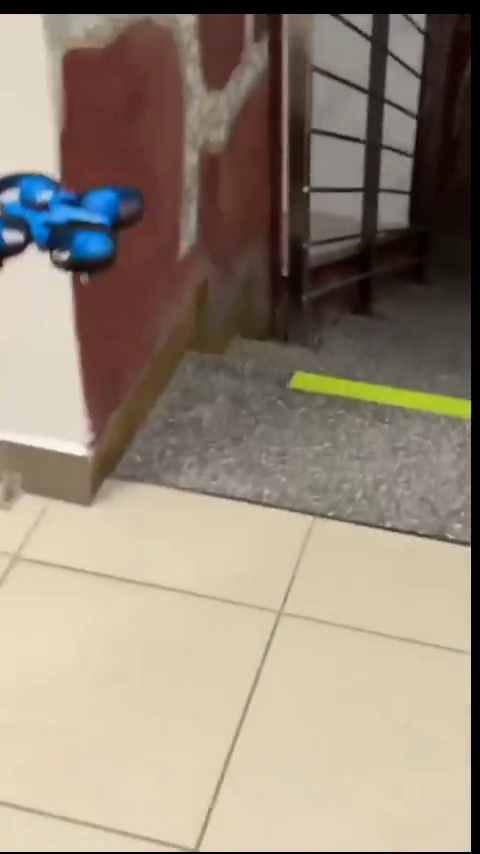drone: (0, 166, 149, 288)
